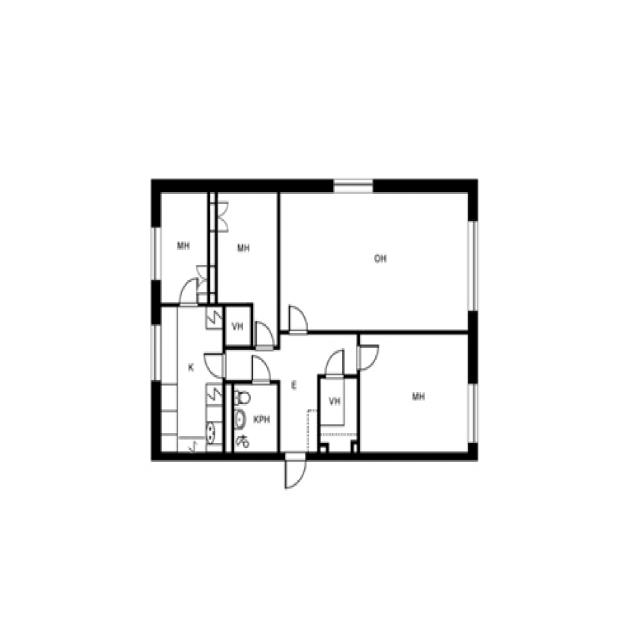door: (285, 454, 306, 488), (325, 351, 344, 379), (357, 346, 378, 371), (289, 307, 307, 335), (180, 280, 198, 307), (205, 355, 225, 379), (256, 324, 273, 350), (253, 358, 270, 384), (215, 218, 228, 232), (215, 204, 228, 218), (197, 266, 210, 280), (197, 280, 210, 293)
